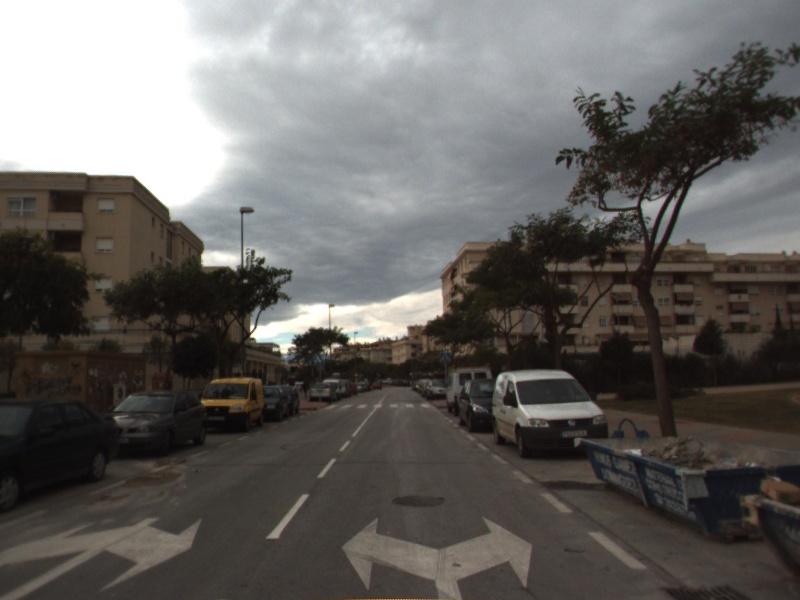LEFT_RIGHT: (339, 512, 536, 600)
